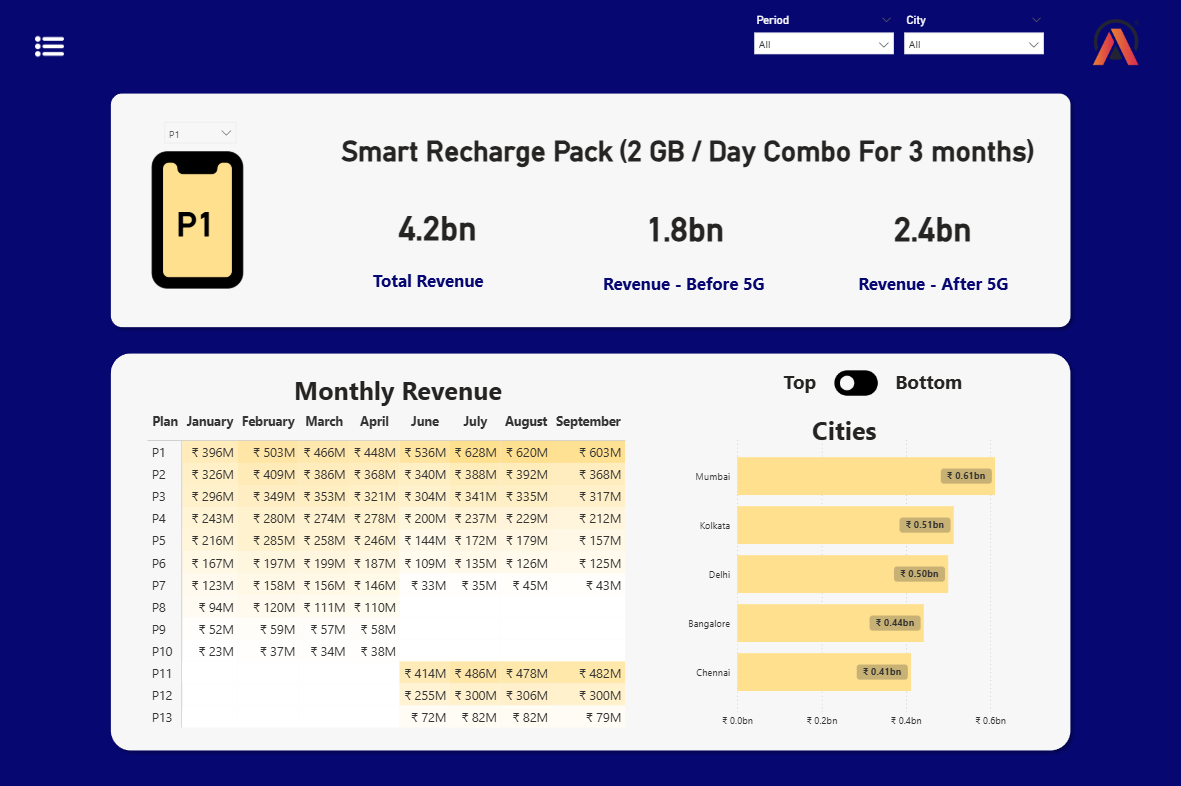

This screenshot's page, from the dashboard's own definition file:
{"tool":"powerbi","page":{"name":"Plan","canvas":[1500,1000],"ordinal":2},"visuals":[{"type":"slicer","fields":{"Values":["dim_date.before/after_5g"]},"box":[947.1,12.7,197.5,77.5],"z":0,"group":"g1"},{"type":"image","box":[44,35.5,36.7,47.7],"z":0},{"type":"slicer","fields":{"Values":["dim_plan.plan"]},"box":[199.5,145.6,111.6,50.7],"z":0,"group":"g3"},{"type":"image","box":[1057.3,459.1,60,55],"z":0,"group":"g2"},{"type":"slicer","fields":{"Values":["dim_cities.city_name"]},"box":[1137.1,12.7,197.5,77.5],"z":1000,"group":"g1"},{"type":"shape","box":[131.7,110,1236.7,315],"z":1000},{"type":"card","fields":{"Values":["Measure Table.Plan_selected"]},"box":[200.9,201.6,97.2,157.5],"z":1000,"group":"g3"},{"type":"clusteredBarChart","fields":{"Category":["dim_cities.city_name"],"Y":["Measure Table.Total_plan_revenes"]},"box":[862.9,542.7,465.8,390.4],"z":1000,"group":"g2"},{"type":"image","box":[1387.6,22.1,61.1,61.1],"z":2000},{"type":"image","box":[164,191.5,174.3,177.6],"z":2000,"group":"g3"},{"type":"textbox","box":[985.6,464.1,60,56],"z":2000,"group":"g2"},{"type":"group","id":"g1","title":"Slicers","box":[947.1,12.7,387.5,77.5],"z":3000},{"type":"card","fields":{"Values":["Min(dim_plan.plan_description)"]},"box":[375.1,130.8,997,117.3],"z":3000,"group":"g3"},{"type":"textbox","box":[1117.6,464.1,124,56],"z":3000,"group":"g2"},{"type":"card","fields":{"Values":["Measure Table.Sel_plan_revenue"]},"box":[446.1,228,219,118],"z":4000,"group":"g3"},{"type":"shape","box":[131.7,439.7,1236.5,522.2],"z":4000},{"type":"card","fields":{"Values":["Measure Table.Sl_plan_revenue_before_5g"]},"box":[760.4,228,219.5,118.8],"z":5000,"group":"g3"},{"type":"pivotTable","fields":{"Rows":["dim_plan.plan"],"Columns":["dim_date.date.Variation.Date Hierarchy.Month"],"Values":["Measure Table.Total_plan_revenes"]},"box":[182.6,516.1,618.3,415.6],"z":5000},{"type":"card","fields":{"Values":["Measure Table.Sl_plan_revenue_after_5g"]},"box":[1075.1,228,219.5,118.8],"z":6000,"group":"g3"},{"type":"textbox","box":[355.2,467.5,299.9,62],"z":6000},{"type":"textbox","box":[453.9,337.3,179.3,51.9],"z":7000,"group":"g3"},{"type":"group","id":"g2","title":"Top Switch","box":[862.9,459.1,465.8,474.2],"z":7000},{"type":"textbox","box":[748.8,340.6,241.3,57],"z":8000,"group":"g3"},{"type":"textbox","box":[1062.1,340.6,246.3,58.6],"z":9000,"group":"g3"},{"type":"textbox","box":[921.6,519.4,299.9,62],"z":9000},{"type":"group","id":"g3","title":"Plan","box":[164,130.8,1208.1,268.5],"z":10000}]}

Visuals, with their boxes in screenshot pixels (x1, y1, x2, y2), scaled from the page's 1500x1000 canvas onto the 1181x786 screenshot:
slicer - dim_date.before/after_5g: box=[746, 10, 901, 71]
image: box=[35, 28, 64, 65]
slicer - dim_plan.plan: box=[157, 114, 245, 154]
image: box=[832, 361, 880, 404]
slicer - dim_cities.city_name: box=[895, 10, 1051, 71]
shape: box=[104, 86, 1077, 334]
card - Measure Table.Plan_selected: box=[158, 158, 235, 282]
clusteredBarChart - dim_cities.city_name x Measure Table.Total_plan_revenes: box=[679, 427, 1046, 733]
image: box=[1093, 17, 1141, 65]
image: box=[129, 151, 266, 290]
textbox: box=[776, 365, 823, 409]
"Slicers" group: box=[746, 10, 1051, 71]
card - Min(dim_plan.plan_description): box=[295, 103, 1080, 195]
textbox: box=[880, 365, 978, 409]
card - Measure Table.Sel_plan_revenue: box=[351, 179, 524, 272]
shape: box=[104, 346, 1077, 756]
card - Measure Table.Sl_plan_revenue_before_5g: box=[599, 179, 772, 273]
pivotTable - dim_plan.plan x dim_date.date.Variation.Date Hierarchy.Month: box=[144, 406, 631, 732]
card - Measure Table.Sl_plan_revenue_after_5g: box=[846, 179, 1019, 273]
textbox: box=[280, 367, 516, 416]
textbox: box=[357, 265, 499, 306]
"Top Switch" group: box=[679, 361, 1046, 734]
textbox: box=[590, 268, 780, 313]
textbox: box=[836, 268, 1030, 314]
textbox: box=[726, 408, 962, 457]
"Plan" group: box=[129, 103, 1080, 314]
